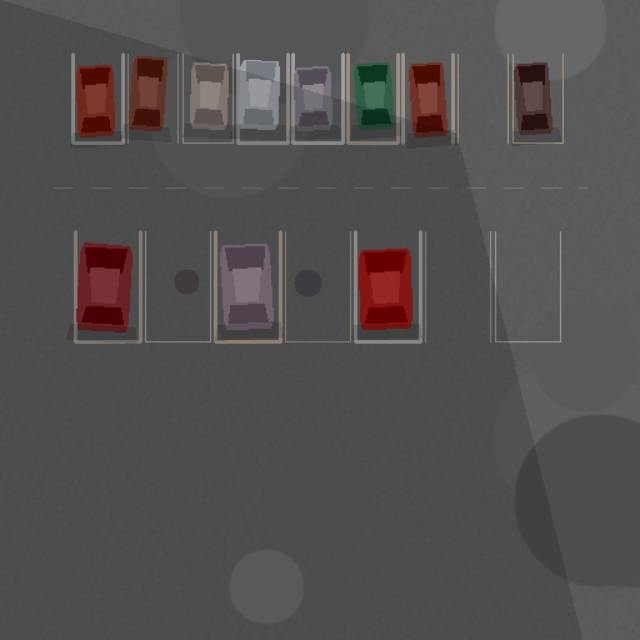space-empty: (145, 231, 210, 341), (285, 231, 350, 341), (425, 231, 490, 341), (495, 231, 560, 341), (457, 54, 507, 142)
space-occupied: (75, 231, 140, 341), (215, 231, 280, 341), (355, 231, 420, 341), (73, 54, 123, 142), (127, 54, 177, 142), (183, 54, 233, 142), (237, 54, 287, 142), (293, 54, 343, 142), (347, 54, 397, 142), (403, 54, 453, 142), (513, 54, 563, 142)
